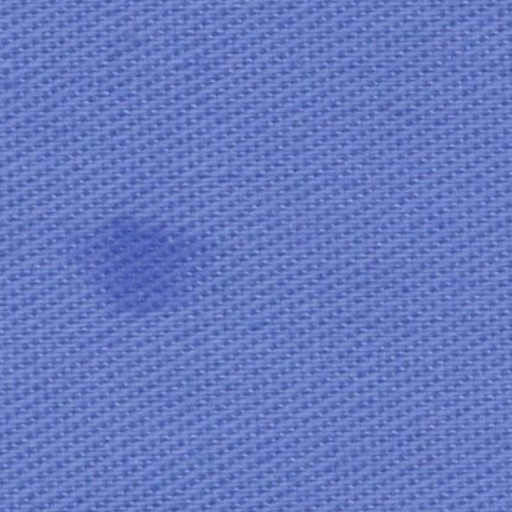WuZi: (65, 206, 222, 343)
